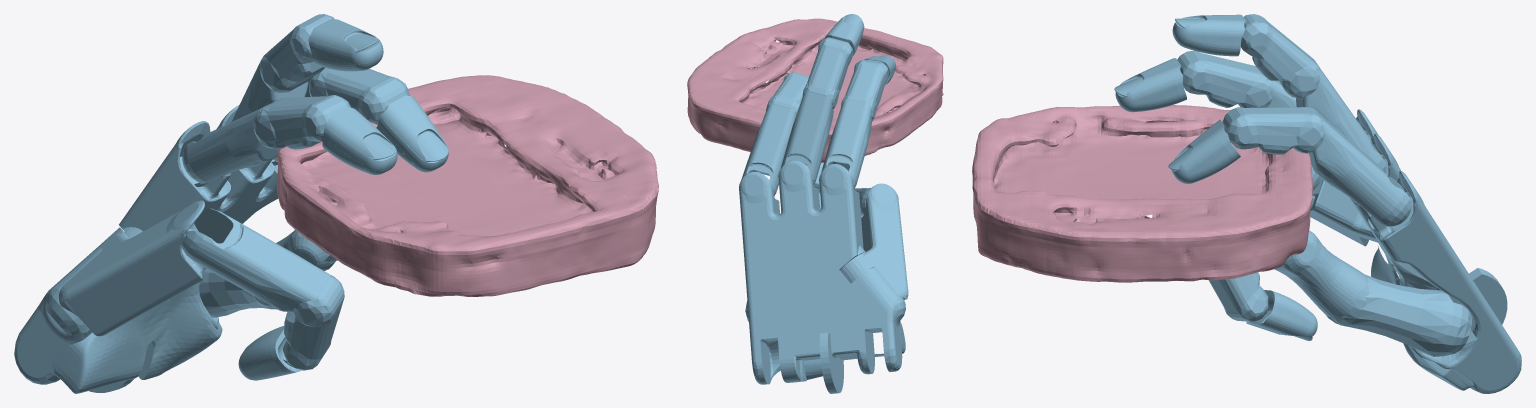
The picture shows the model from 3 angles, left to right: view 1: azimuth 30°, elevation 25°; view 2: azimuth 150°, elevation 25°; view 3: azimuth 270°, elevation 25°; orthographic projection. The views are drawn at different scales.
Parts seen in each view (by area): view 1: hand, world; view 2: hand, world; view 3: hand, world.
Boxes of the visible parts, box(x1,y1,x2,y2) form: hand: box(14, 14, 448, 393); world: box(276, 75, 658, 296); hand: box(739, 14, 908, 393); world: box(687, 18, 943, 162); hand: box(1114, 14, 1521, 393); world: box(972, 105, 1312, 282).
Bounding box in the file's own units: 0.1795 × 0.167 × 0.2121.
